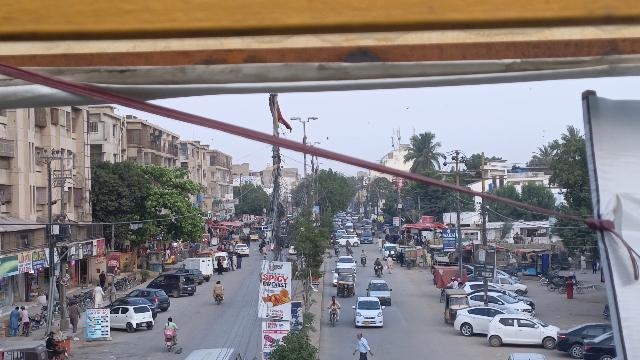Bike: (44, 346, 74, 360), (328, 308, 340, 326), (18, 321, 31, 337), (164, 335, 175, 352), (213, 292, 223, 307), (374, 264, 384, 278)
Car: (486, 311, 560, 351), (553, 321, 612, 357), (450, 304, 510, 338), (109, 304, 156, 334), (146, 273, 199, 299), (352, 295, 385, 330), (127, 286, 171, 312), (582, 331, 617, 360), (366, 279, 393, 307)
Person: (349, 333, 375, 360), (68, 298, 80, 332), (91, 282, 106, 309), (9, 305, 19, 337), (163, 313, 178, 332), (384, 254, 395, 275), (44, 330, 56, 349), (327, 293, 341, 309), (19, 304, 32, 320), (213, 278, 225, 293), (372, 256, 383, 269)
Rickshaw: (441, 289, 468, 326), (336, 267, 357, 298)
